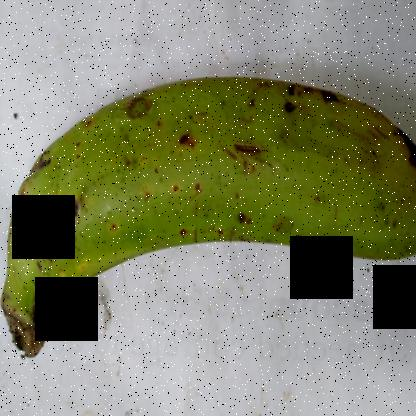unripe: (0, 49, 415, 354)
